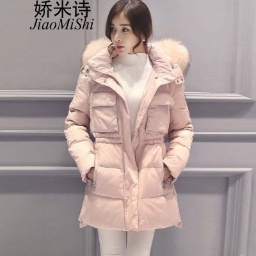face: (104, 1, 159, 56)
